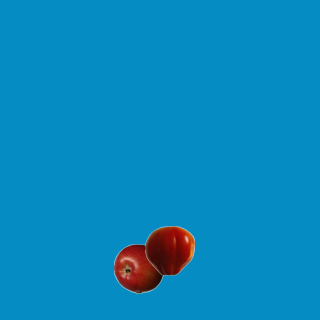Apple Braeburn: (113, 243, 163, 293)
Tomato 1: (144, 225, 194, 275)
